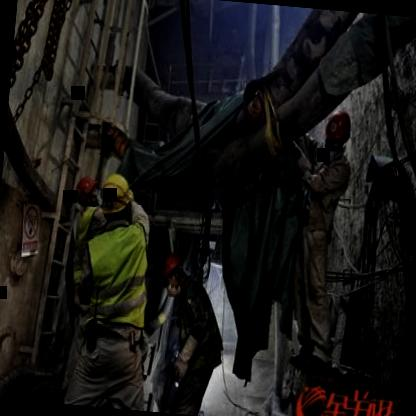helmet: (320, 108, 356, 162), (100, 170, 134, 216), (158, 254, 188, 295), (72, 172, 105, 208)
